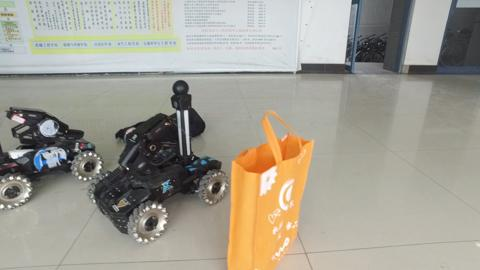bag: (228, 112, 310, 270)
chariot: (94, 77, 230, 243), (1, 98, 99, 214)
